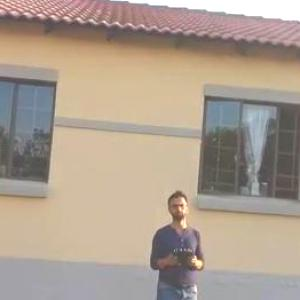follow: (144, 184, 210, 299)
